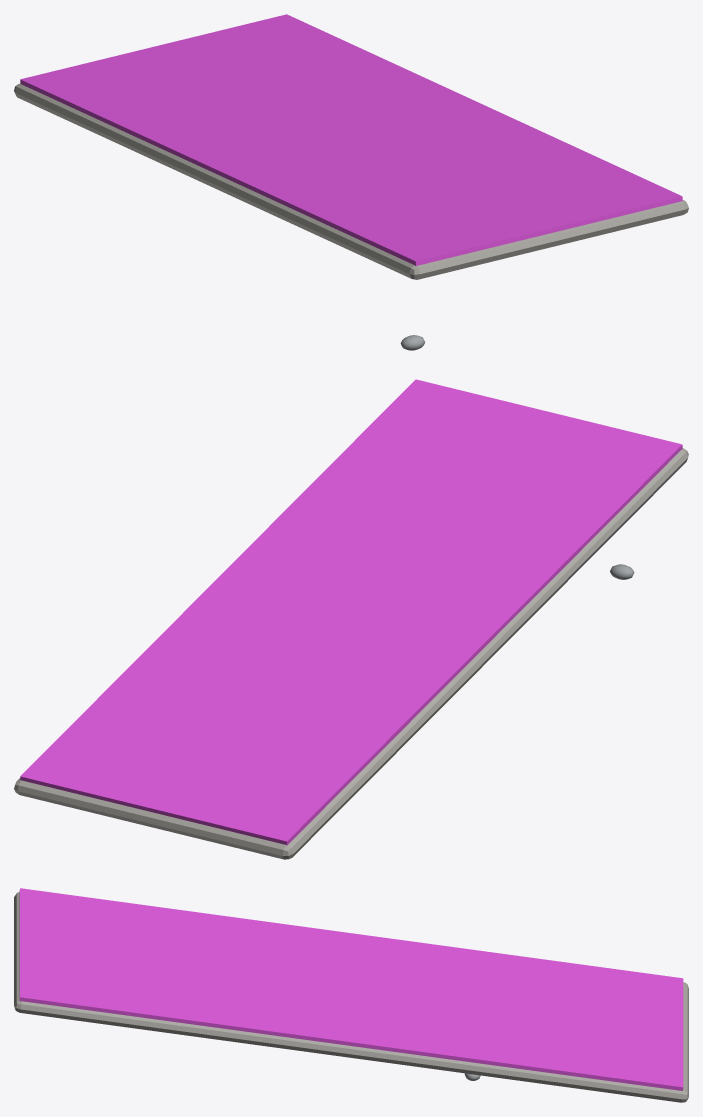
3 renders of one model, top to bottom at view 1: azimuth 30°, elevation 25°; view 2: azimuth 150°, elevation 25°; view 3: azimuth 270°, elevation 25°, orthographic. The views are drawn at different scales.
Visible parts, largest first — view 1: NAV_MASK_FOREST_PATH_GRAVEL_SLOPE_UP_SLOPE, LOD1_FOREST_PATH_GRAVEL_SLOPE_UP_Slope; view 2: NAV_MASK_FOREST_PATH_GRAVEL_SLOPE_UP_SLOPE, LOD1_FOREST_PATH_GRAVEL_SLOPE_UP_Slope; view 3: NAV_MASK_FOREST_PATH_GRAVEL_SLOPE_UP_SLOPE, LOD1_FOREST_PATH_GRAVEL_SLOPE_UP_Slope.
Boxes of the visible parts, box(x1,y1,x2,y2) form: NAV_MASK_FOREST_PATH_GRAVEL_SLOPE_UP_SLOPE: box(20, 14, 682, 265); LOD1_FOREST_PATH_GRAVEL_SLOPE_UP_Slope: box(14, 83, 688, 279); NAV_MASK_FOREST_PATH_GRAVEL_SLOPE_UP_SLOPE: box(20, 379, 682, 845); LOD1_FOREST_PATH_GRAVEL_SLOPE_UP_Slope: box(14, 448, 688, 859); NAV_MASK_FOREST_PATH_GRAVEL_SLOPE_UP_SLOPE: box(19, 888, 683, 1090); LOD1_FOREST_PATH_GRAVEL_SLOPE_UP_Slope: box(14, 892, 688, 1102).
Size of what is drawn, in the model's own units: 3.2 by 1.38 by 8.
